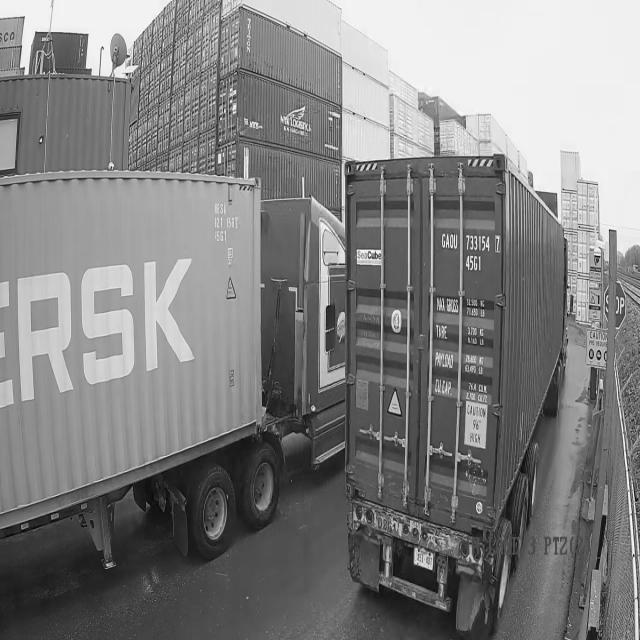container_company_logo: (354, 246, 384, 269)
container_number: (440, 224, 493, 284)
container_side_no: (209, 201, 249, 250)
other_container_info: (433, 292, 498, 419)
truck_with_container: (0, 163, 346, 566), (343, 154, 568, 639)
